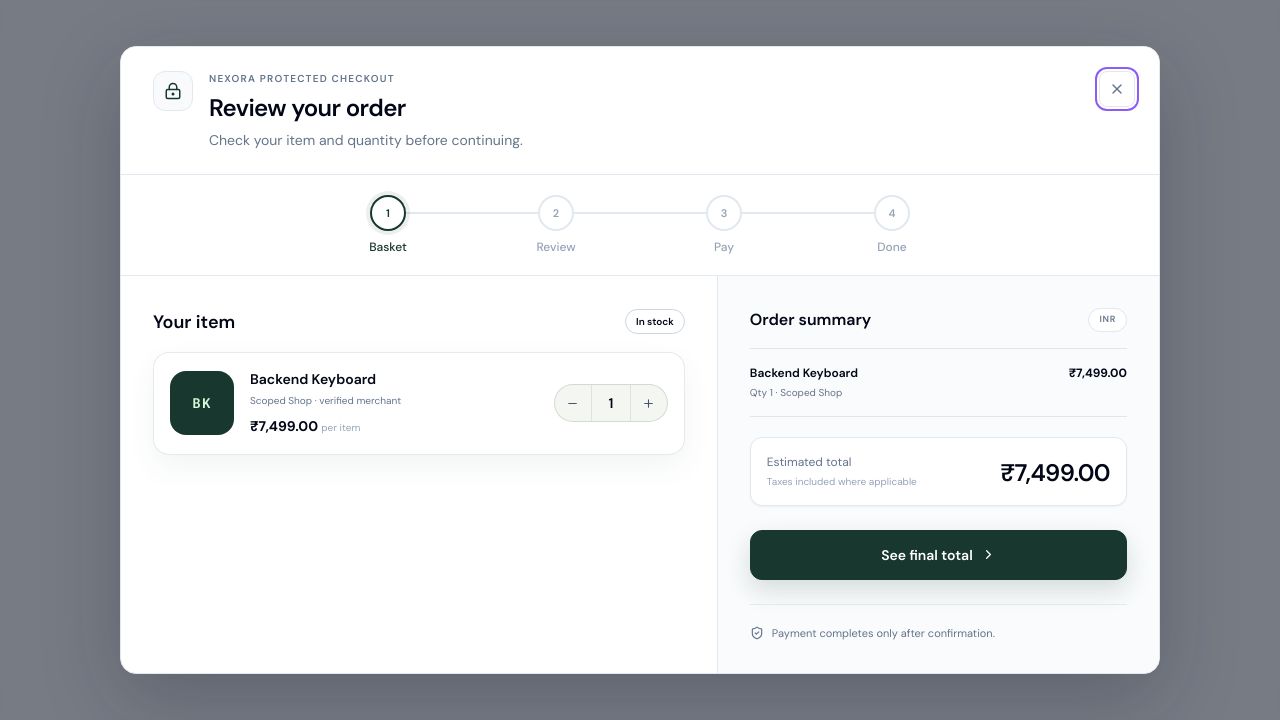
Scenario: approval-gated checkout › shows success only after the authoritative order endpoint reports webhook-confirmed PAID
The width and height of the screenshot is (1280, 720).
What coordinates should you click on to do the following:
click the button "See final total"
I would click on:
 (938, 555)
Its box is [750,530,1127,580].
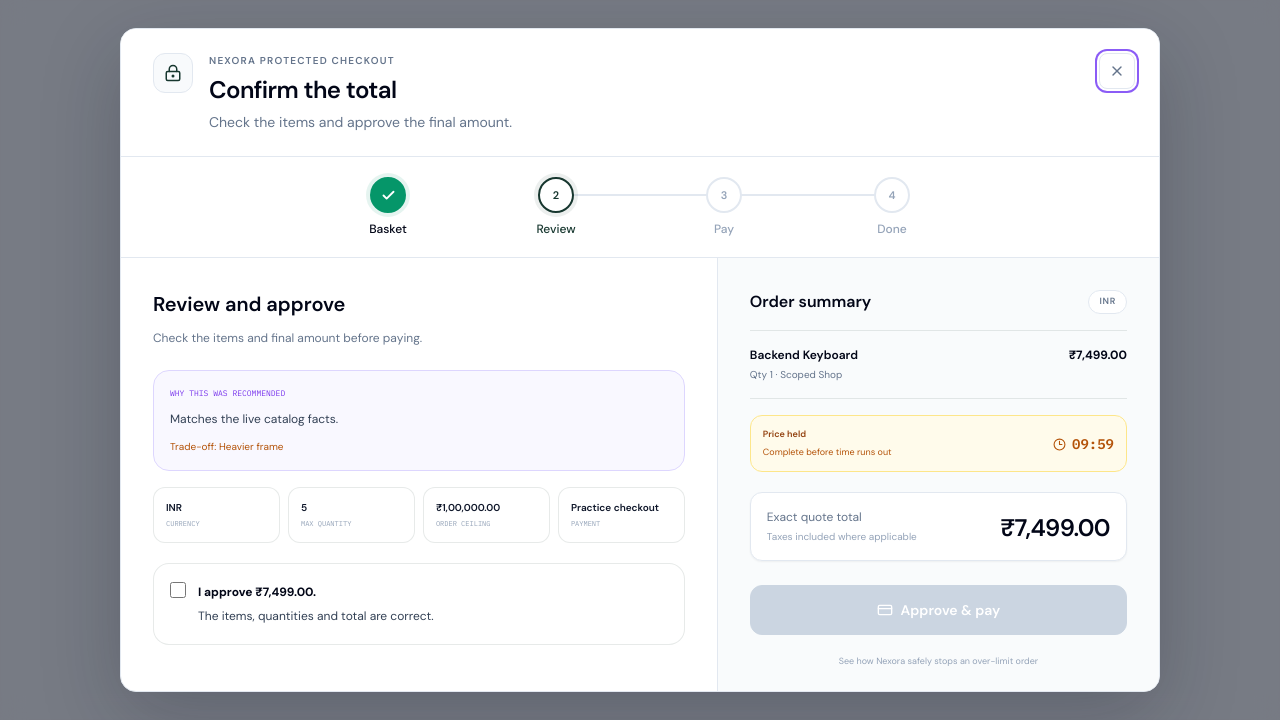
Now the heading "Review and approve" is shown, box [153,291,346,317]
What coordinates should you click on to do the following:
click the checkbox labelled "I approve"
I would click on:
 (178, 590)
Its box is [170,582,186,598].
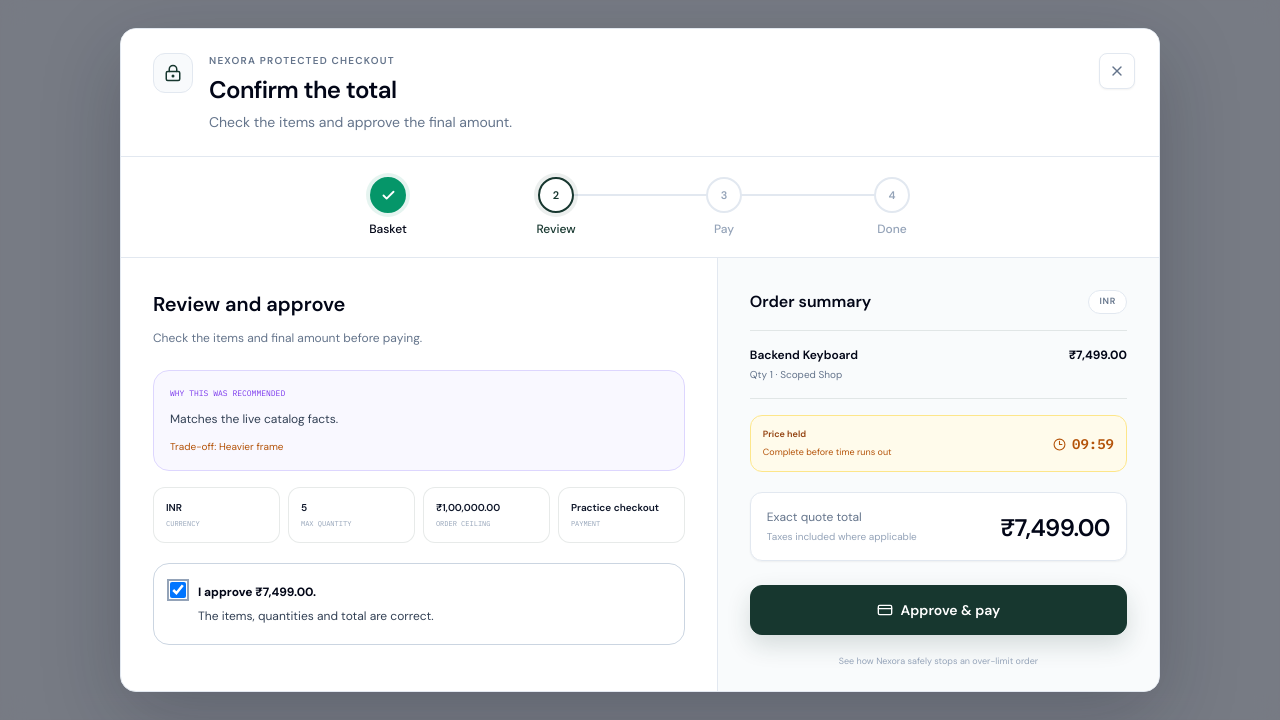
What coordinates should you click on to do the following:
click the button "Approve & pay"
I would click on:
 (938, 610)
Its box is [750,585,1127,635].
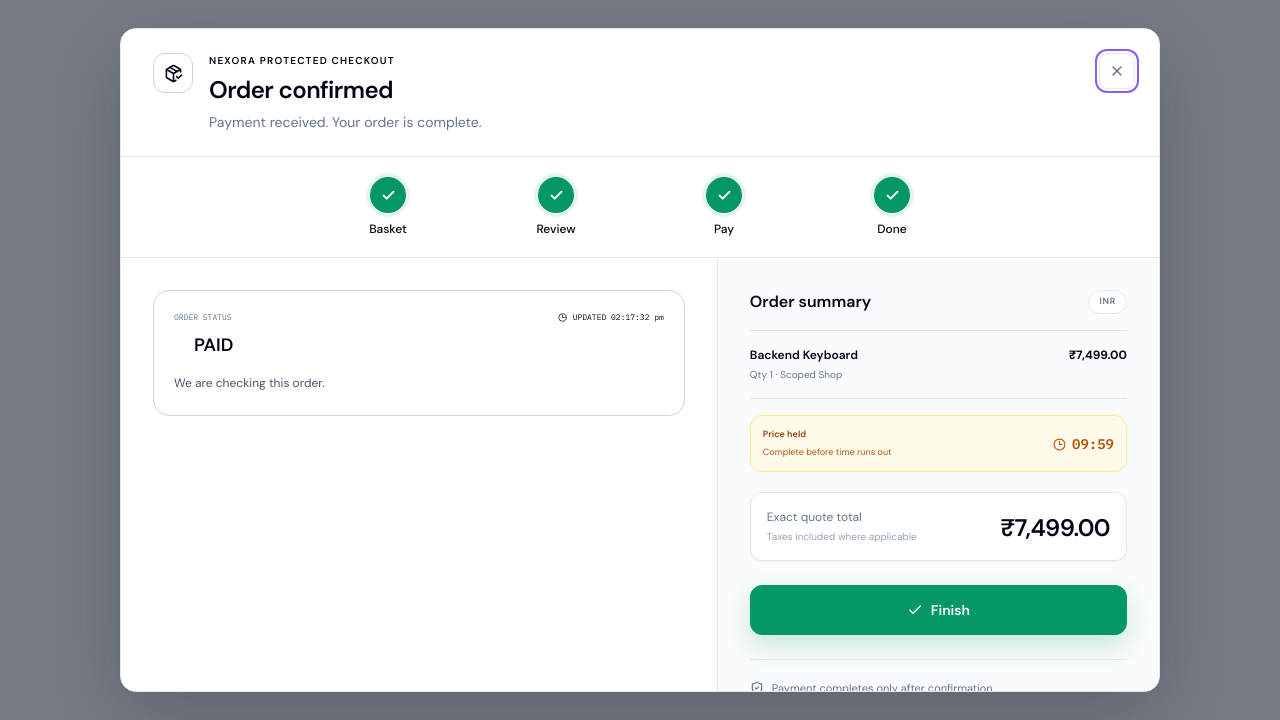
Now the heading "Order confirmed" is shown, box [209,74,393,105]
